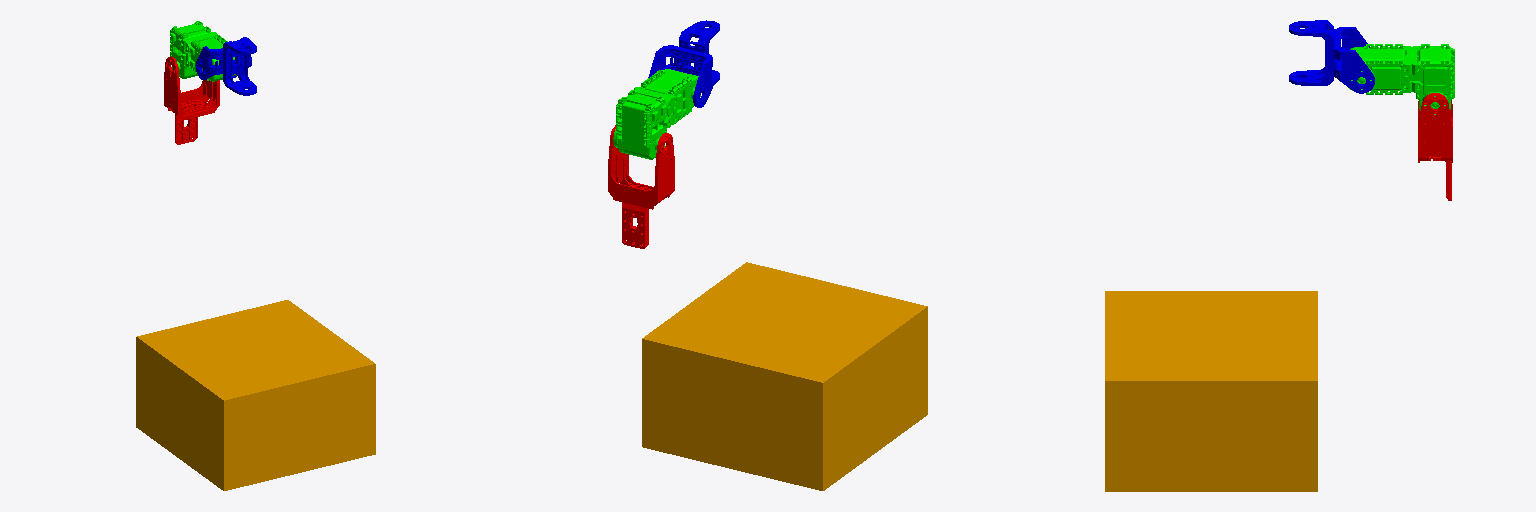
robot.urdf — MyHexapodModel:
<?xml version="1.0" encoding="UTF-8"?>
<robot name="MyHexapodModel" version="1.0">
   <link name="base_link">
      <inertial>
         <origin rpy="0 0 0" xyz="0 0 0" />
         <mass value="1" />
         <inertia ixx="1" ixy="0" ixz="0" iyy="1" iyz="0" izz="1" />
      </inertial>
      <visual>
         <origin rpy="0 0 0" xyz="0 0 0" />
         <geometry>
            <box size="0.175 0.175 0.1" />
         </geometry>
      </visual>
   </link>
   
   <link name="body">
      <inertial>
         <origin rpy="0 0 0" xyz="0 -0.0171 0.02286" />
         <mass value="0.40176" />
         <inertia ixx="0.00105433" ixy="-0.00000019" ixz="0" iyy="0.00081926" iyz="0.00000071" izz="0.00177051" />
      </inertial>
      <visual>
         <origin rpy="0 0 0" xyz="0 0 0" />
         <geometry>
            <mesh filename="meshes/body.obj" scale="0.001 0.001 0.001" />
         </geometry>
         <material name="Cyan">
            <color rgba="0 1.0 1.0 1.0" />
         </material>
      </visual>
      <collision name="body_bounding_box">
         <origin xyz="0 0 0" rpy="0 0 0" />
         <geometry>
            <box size="0.5 0.5 0.44" />
         </geometry>
      </collision>
   </link>
   
   <link name="coxa">
      <inertial>
         <origin rpy="0 0 0" xyz="-0.00000110 0.02639972 -0.02297300" />
         <mass value="0.01525104" />
         <inertia ixx="0.00000655" ixy="0" ixz="0" iyy="0.00000648" iyz="-0.00000062" izz="0.00000650" />
      </inertial>
      <visual>
         <origin rpy="0 0 0" xyz="0 0 0" />
         <geometry>
            <mesh filename="meshes/coxa.obj" scale="0.001 0.001 0.001" />
         </geometry>
         <material name="Cyan">
            <color rgba="0 0 1.0 1.0" />
         </material>
      </visual>
   </link>
   
   <link name="femur">
      <inertial>
         <origin rpy="0 0 0" xyz="-0.01997242 0.03689470 -0.00463407" />
         <mass value="0.11787044" />
         <inertia ixx="0.00009413" ixy="-0.00000019" ixz="-0.00000019" iyy="0.00002910" iyz="-0.00001283" izz="0.00008980" />
      </inertial>
      <visual>
         <origin rpy="0 0 0" xyz="0 0 0" />
         <geometry>
            <mesh filename="meshes/femur.obj" scale="0.001 0.001 0.001" />
         </geometry>
         <material name="Cyan">
            <color rgba="0 1.0 0 1.0" />
         </material>
      </visual>
   </link>   
   
   <link name="tibia">
      <inertial>
         <origin rpy="0 0 0" xyz="-0.02100004 0.03916205 0.00259554" />
         <mass value="0.01623502" />
         <inertia ixx="0.00000985" ixy="0" ixz="0" iyy="0.00000646" iyz="0.00000115" izz="0.00001371" />
      </inertial>
      <visual>
         <origin rpy="0 0 0" xyz="0 0 0" />
         <geometry>
            <mesh filename="meshes/tibia.obj" scale="0.001 0.001 0.001" />
         </geometry>
         <material name="Cyan">
            <color rgba="1.0 0 0 1.0" />
         </material>
      </visual>
   </link>     
   
   <joint name="body_fixed" type="fixed">
      <origin xyz="0 0 0.3" rpy="0 0 0" />
      <parent link="base_link" />
      <child link="body" />
   </joint>
   
   <joint name="body_coxa" type="revolute">
      <origin xyz="0.032 0.07445 0.04294" rpy="0 0 0" />
      <parent link="body" />
      <child link="coxa" />
	  <axis xyz="0 0 1"/>
	  <limit effort="30" velocity="1.0" lower="-2.62" upper="2.62" />
   </joint>
   
   <joint name="coxa_femur" type="revolute">
      <origin xyz="0.021 0.049 -0.0355" rpy="0 0 0" />
      <parent link="coxa" />
      <child link="femur" />
	  <axis xyz="1 0 0"/>
	  <limit effort="30" velocity="1.0" lower="-2.62" upper="2.62" />
   </joint>
   
   <joint name="femur_tibia" type="revolute">
      <origin xyz="0.0 0.0605 -0.0225" rpy="-1.57 0 0" />
      <parent link="femur" />
      <child link="tibia" />
	  <axis xyz="1 0 0"/>
	  <limit effort="30" velocity="1.0" lower="-2.62" upper="2.62" />
   </joint>
   
   <transmission name="body_coxa">
     <joint name="body_coxa"/>
     <actuator name="body_coxa_motor">
       <mechanicalReduction>1</mechanicalReduction>
     </actuator>
   </transmission>
   
   <transmission name="coxa_femur">
     <joint name="coxa_femur"/>
     <actuator name="coxa_femur_motor">
       <mechanicalReduction>1</mechanicalReduction>
     </actuator>
   </transmission>   
   
      
   <transmission name="femur_tibia">
     <joint name="femur_tibia"/>
     <actuator name="femur_tibia_motor">
       <mechanicalReduction>1</mechanicalReduction>
     </actuator>
   </transmission>   
   
</robot>

--- Facts derived from the render (not from the file) ---
3 views of the same robot in one strip: view 1: azimuth 30°, elevation 25°; view 2: azimuth 150°, elevation 25°; view 3: azimuth 270°, elevation 25° (orthographic).
Model MyHexapodModel with 5 links and 4 joints (3 revolute, 1 fixed), rooted at base_link, posed every joint at zero.
Visible links, largest first — view 1: base_link, tibia, coxa, femur; view 2: base_link, femur, tibia, coxa; view 3: base_link, femur, coxa, tibia.
Link boxes in pixels (x1,y1,x2,y2): base_link: (136,300,375,490); tibia: (164,56,219,144); coxa: (195,37,256,95); femur: (170,21,236,81); base_link: (642,262,927,490); femur: (613,69,700,159); tibia: (608,125,674,248); coxa: (648,20,719,107); base_link: (1105,291,1317,491); femur: (1349,44,1454,114); coxa: (1289,20,1374,93); tibia: (1418,93,1452,200).
Size in the robot's own frame: 0.175 by 0.2874 by 0.3963 metres.
Meshes: 4 distinct files referenced, 3 mesh visuals loaded (3 OBJ); not drawn: 1 (reference not matched to a file when rendering).